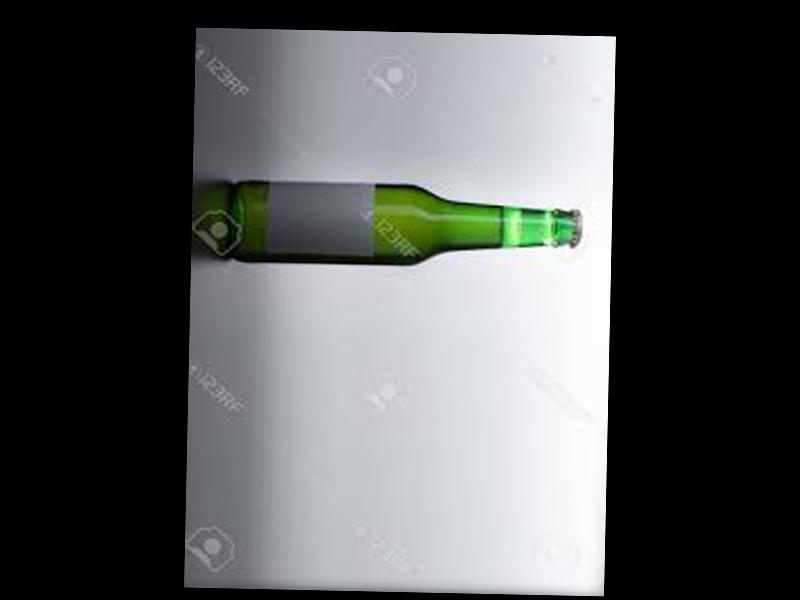Beer: (229, 179, 582, 269)
